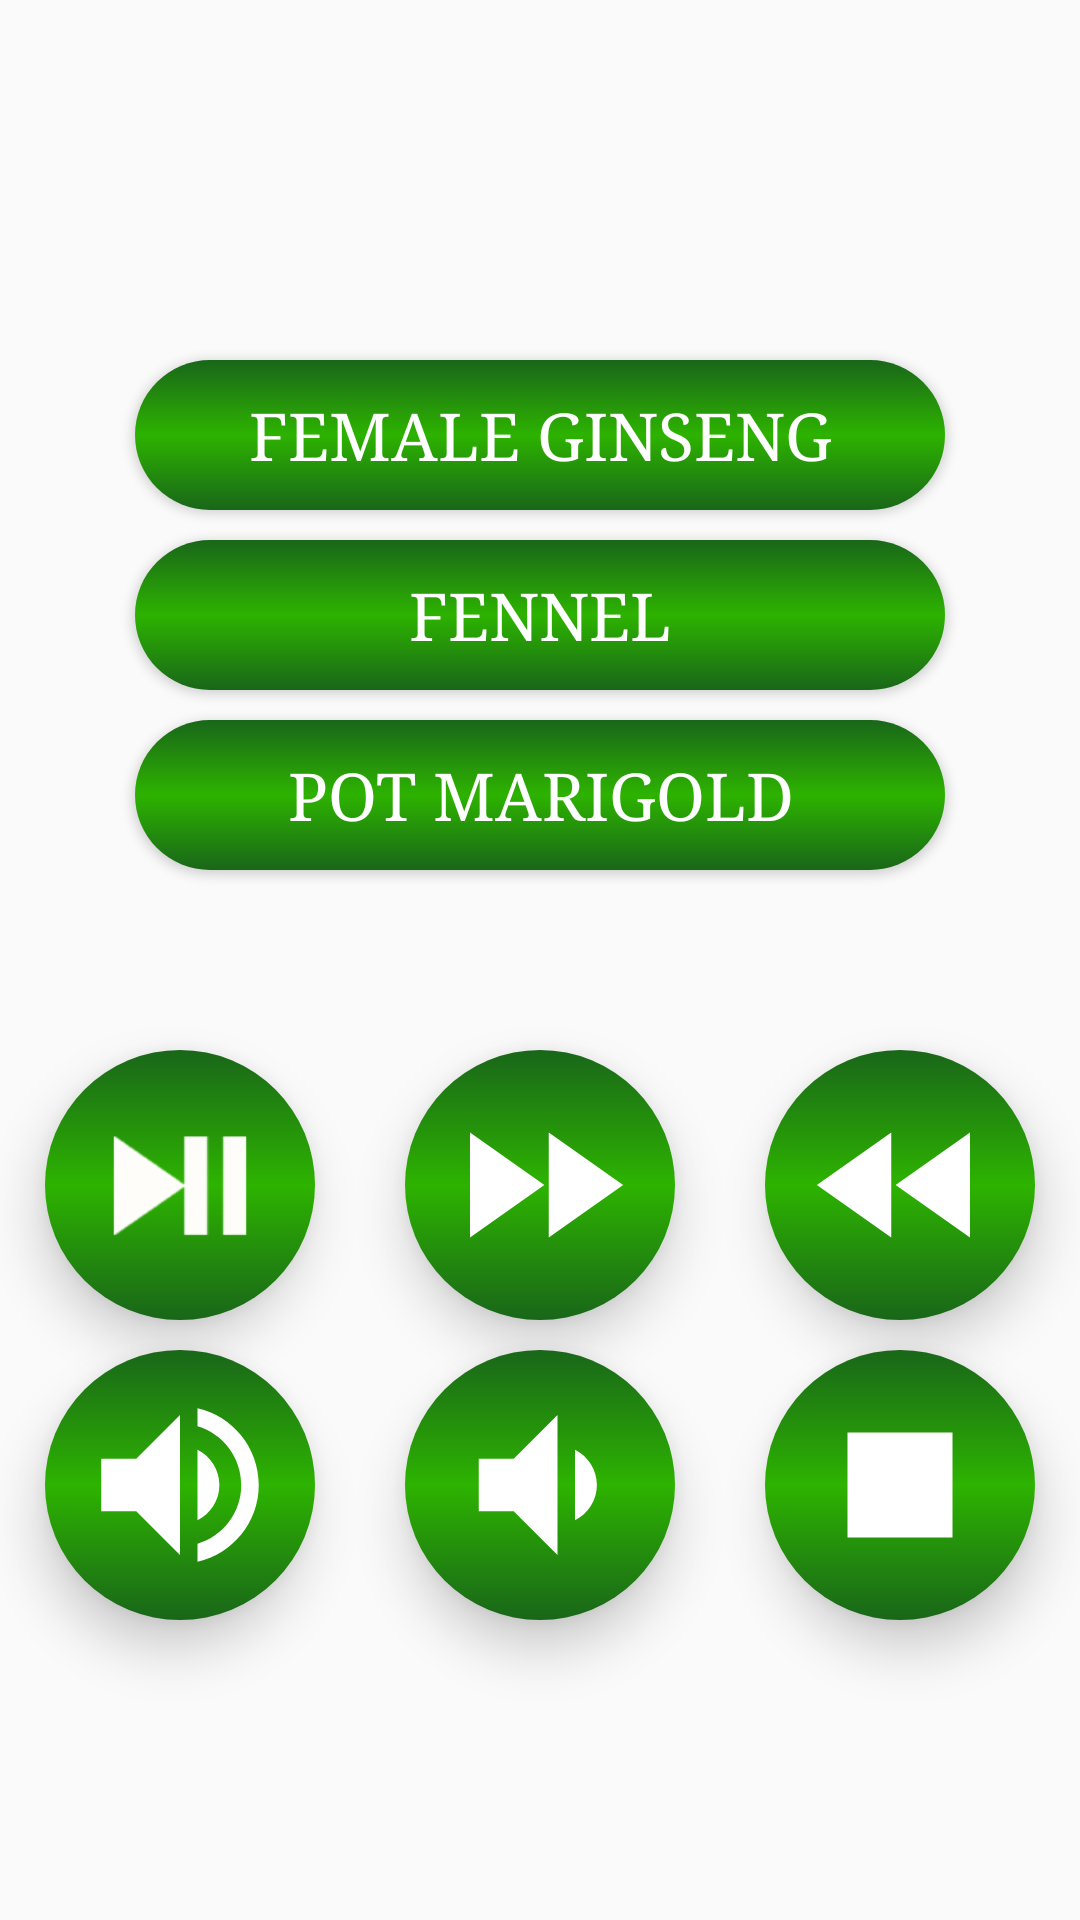

Point at icon controls on the screen. Image size 1080×1920, points as (x,y).
fast forward: (540,1185)
rewind: (900,1185)
stop: (900,1485)
volume down: (540,1485)
volume up: (180,1485)
